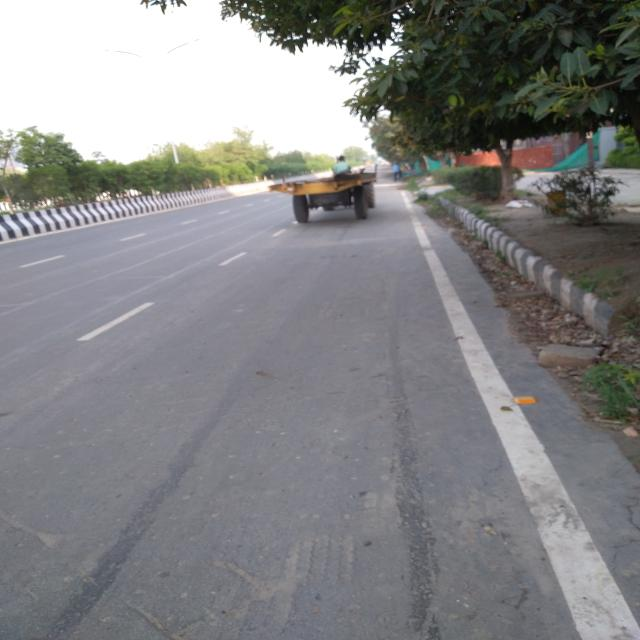tractor: (272, 153, 384, 238)
